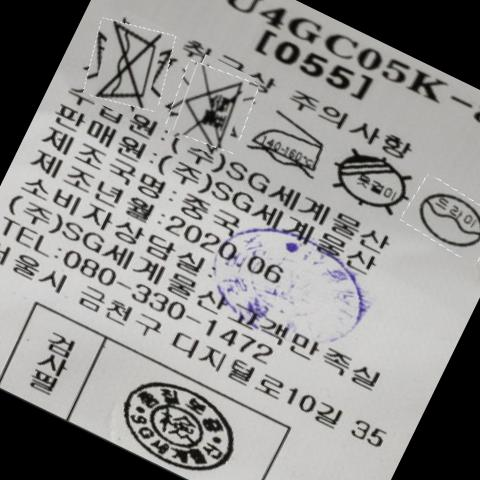DN_wash: (94, 23, 169, 105)
dry_clean: (415, 183, 480, 254)
iron_medium: (253, 117, 328, 171)
line_dry_in_shade: (333, 153, 414, 210)
non_chlorine_bleach: (183, 73, 248, 143)
